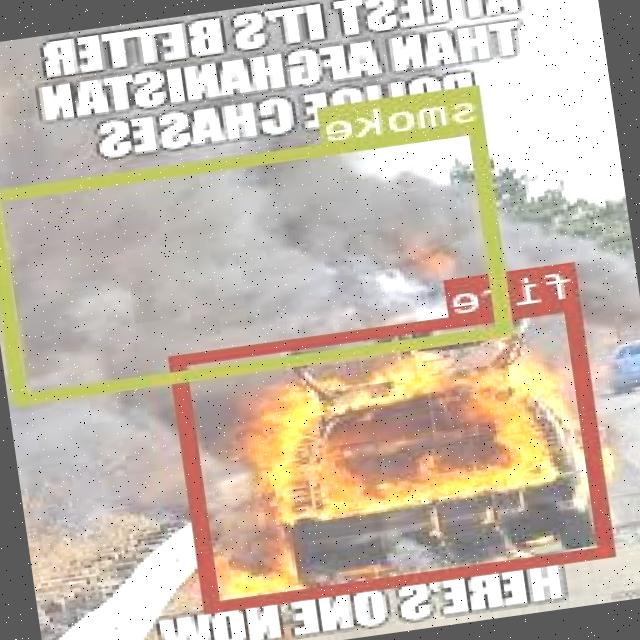fire: (174, 297, 618, 611)
smoke: (0, 119, 515, 403)
